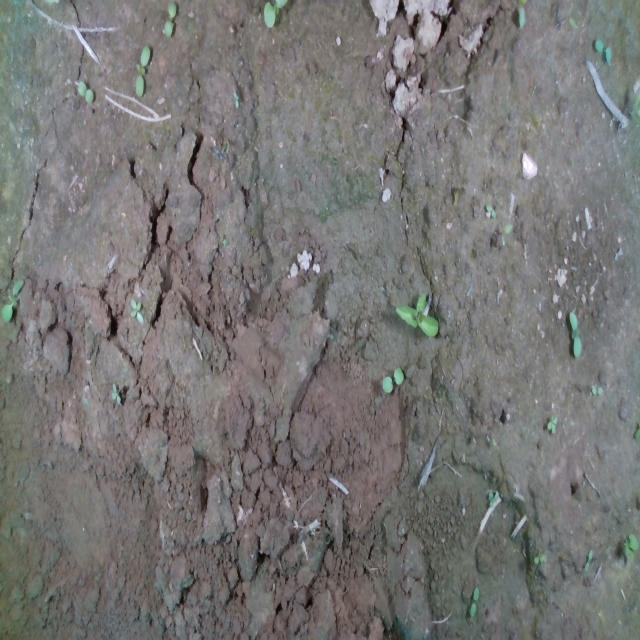weed: (394, 290, 439, 336), (134, 43, 150, 97), (568, 308, 582, 358), (381, 365, 404, 393), (161, 0, 177, 39), (594, 36, 612, 64), (76, 79, 94, 105), (129, 297, 143, 323), (469, 585, 479, 617), (110, 381, 121, 408), (546, 412, 558, 436), (583, 546, 593, 572), (533, 550, 547, 564), (590, 384, 604, 396)
